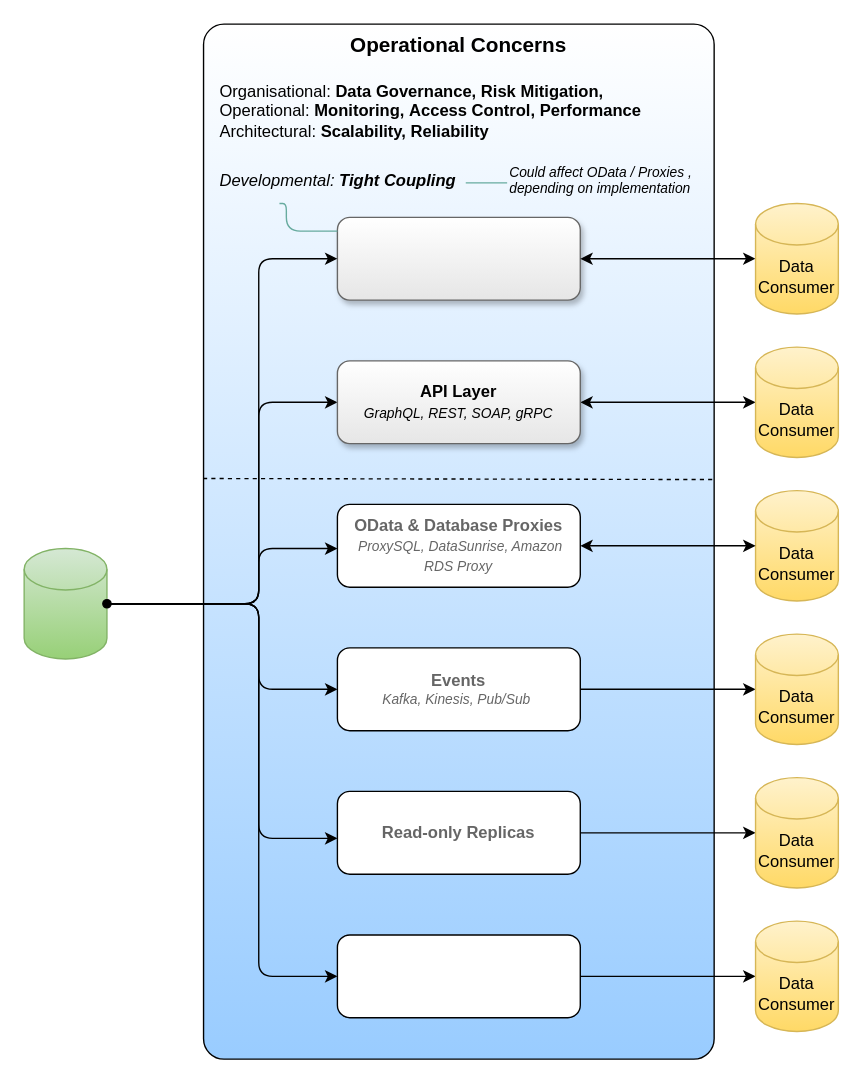
This 863x1083 diagram has some shape labels left out. Here are the shapes that lost their labels. From the top down, the centre of each, then its label:
At pixel 460 260: "Structured Direct Access Raw SQL, Views, Stored Procedures".
At pixel 65 603: "Data Provider".
At pixel 458 976: "Data Warehouses / Lakes Snowflake, BigQuery, Redshift".
